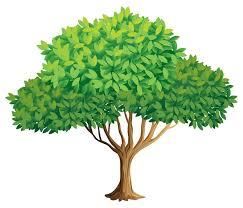tree: (13, 12, 237, 198)
